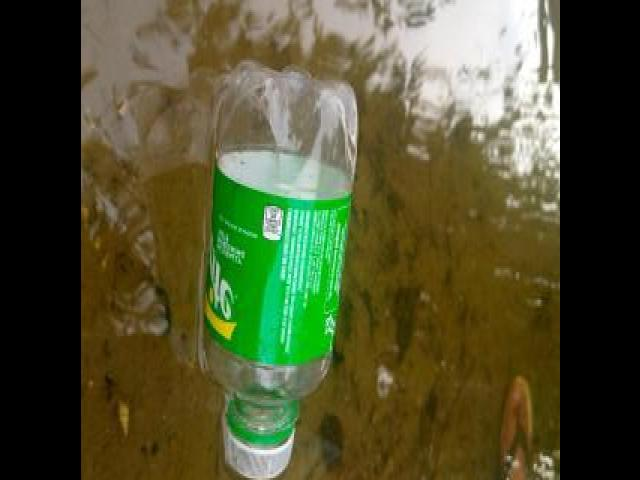Bottle: (194, 59, 359, 480)
